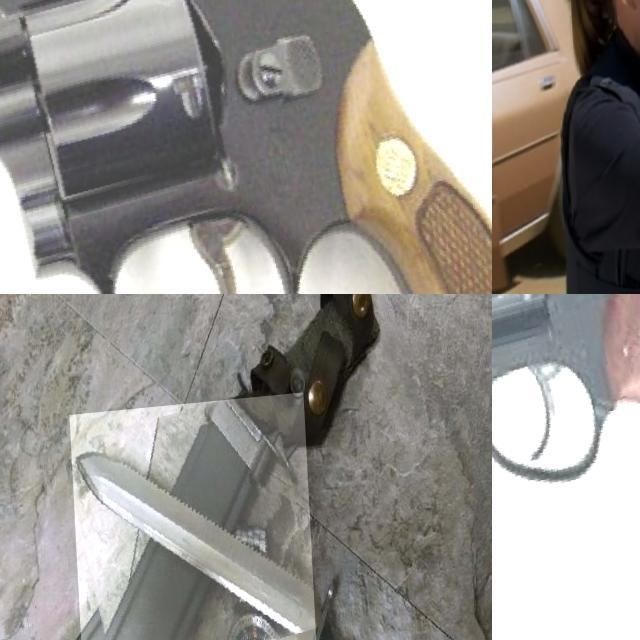-: (67, 399, 312, 640)
gun-knife-thesis - v11 Yolov5 augmented: (0, 0, 492, 294), (492, 294, 640, 640)
